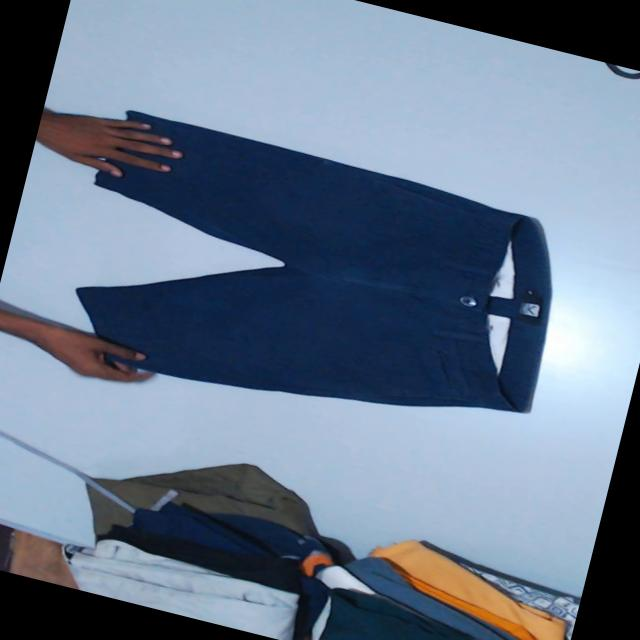new-garment: (76, 110, 550, 411)
